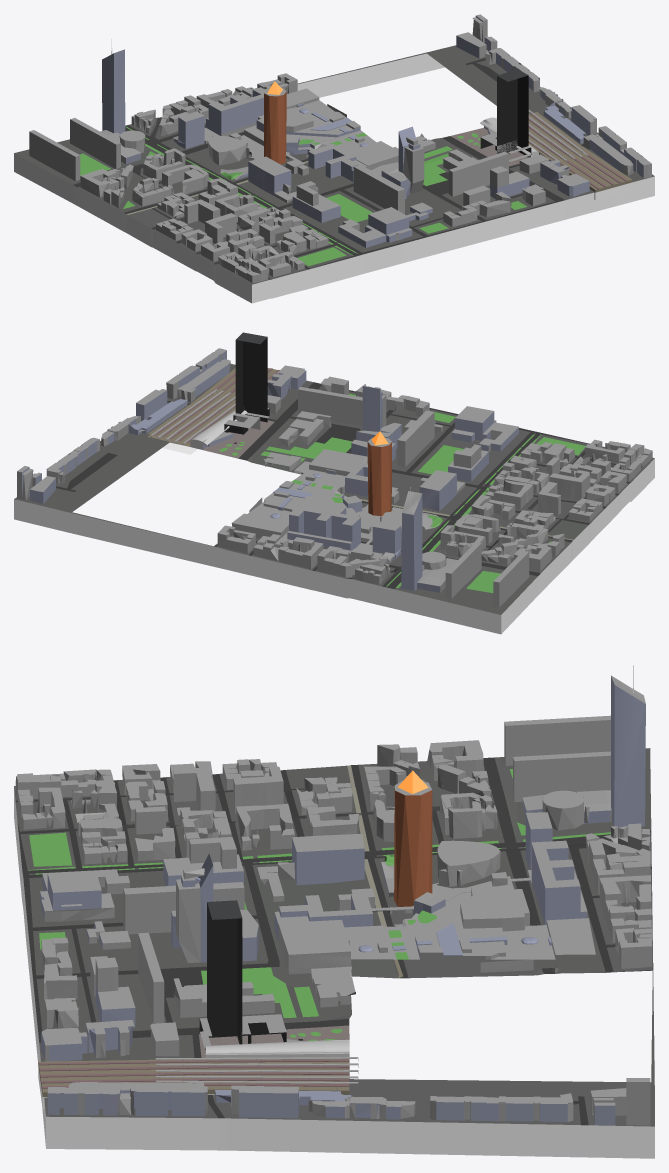
The model's file is global.glb.
3 renders of one model, top to bottom at view 1: azimuth 30°, elevation 25°; view 2: azimuth 150°, elevation 25°; view 3: azimuth 270°, elevation 25°, orthographic. The views are drawn at different scales.
Visible parts, largest first — view 1: global; view 2: global; view 3: global.
Part boxes in pixels (<box>): global: <box>14,14,654,303</box>; global: <box>14,332,654,634</box>; global: <box>14,663,654,1158</box>.
Size of the model in its own units: 1025 by 246 by 738.
Materials: 20 (1 with a texture image).
